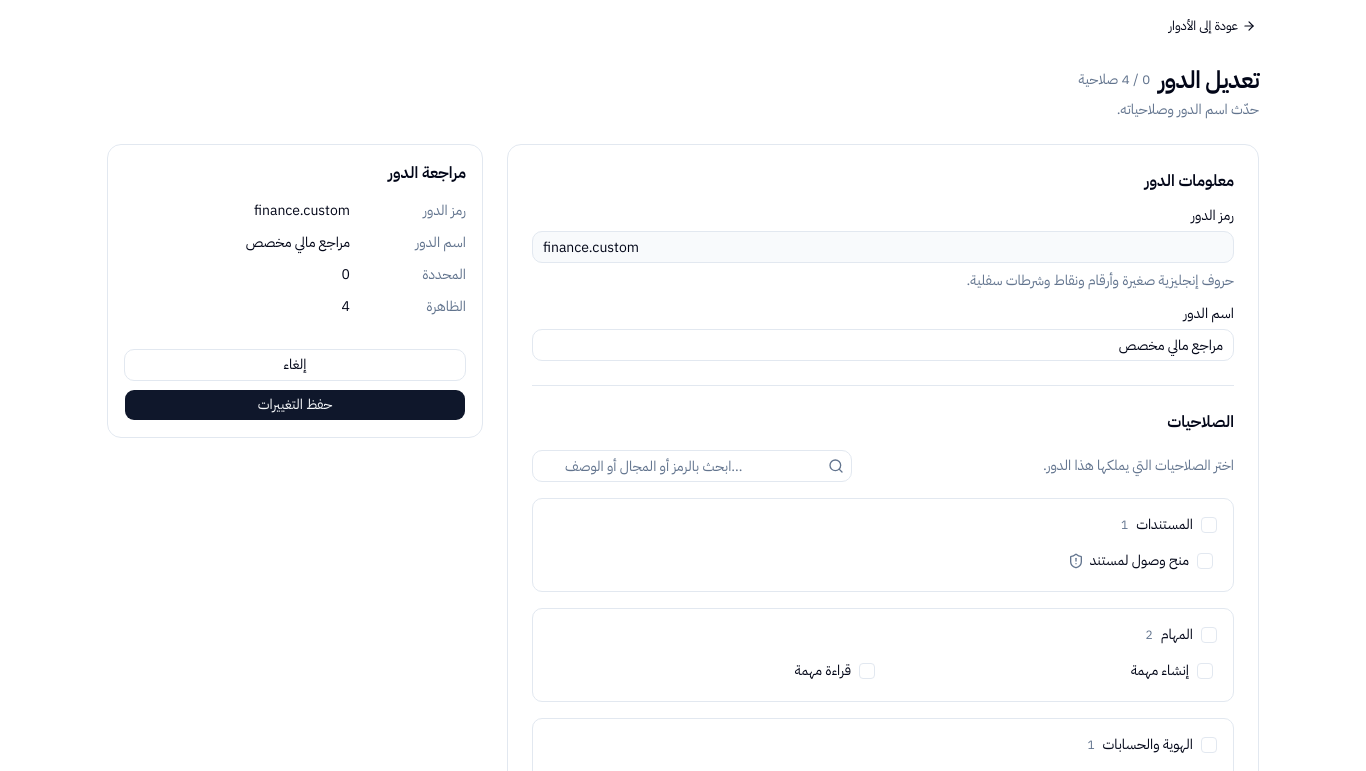
Test: role form page — edit › surfaces a stale 412 as an alert with a retry that reloads the role
Expected: the field labelled "رمز الدور" is shown, [532, 231, 1234, 263]
Expected: the text "المهام" is shown, [1161, 625, 1193, 645]
Click the button "حفظ التغييرات": (295, 405) [124, 389, 466, 421]
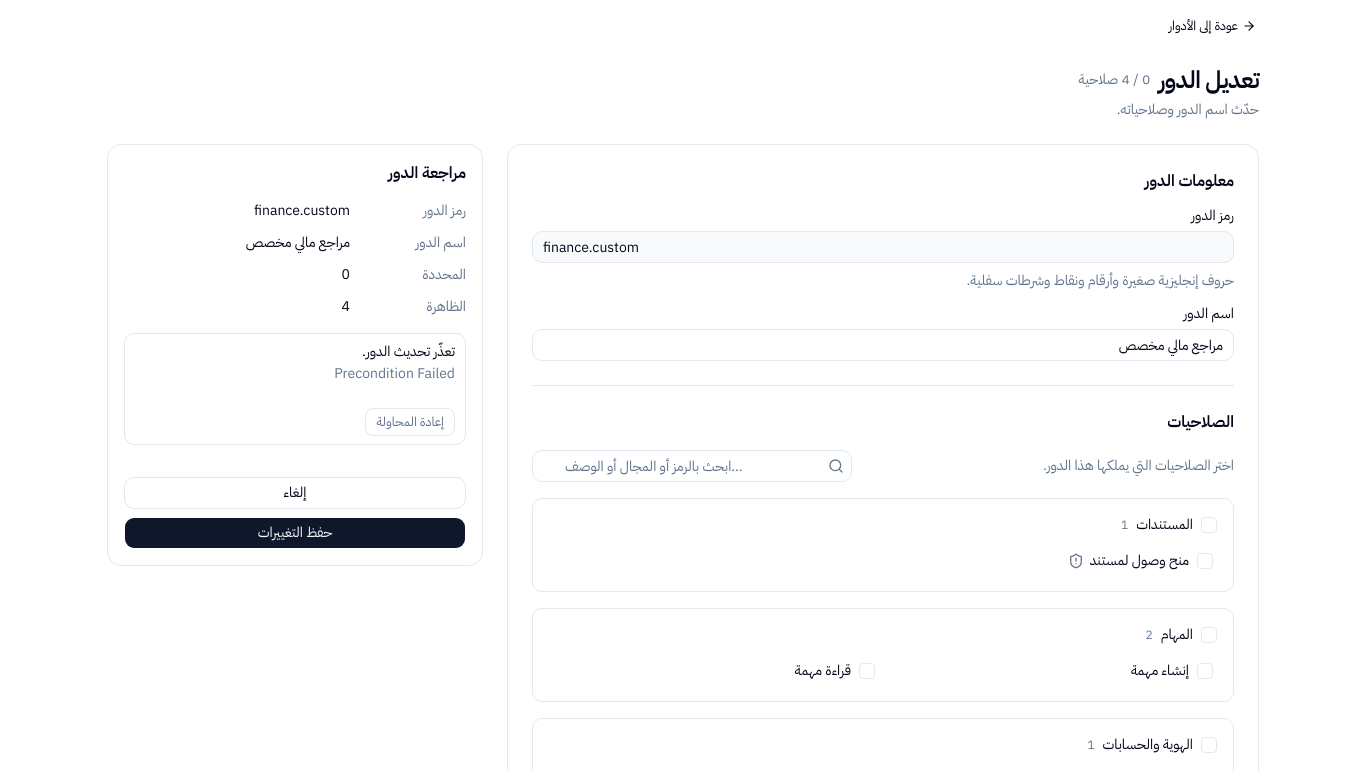
Now the text "تعذّر تحديث الدور." is shown, box [362, 341, 455, 362]
Now the button "إعادة المحاولة" is shown, box [366, 408, 455, 436]
